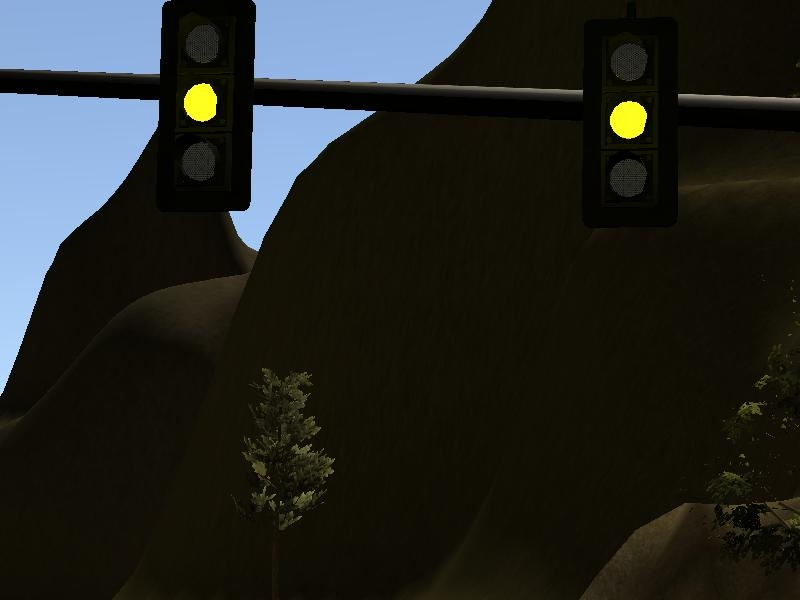yellow: (575, 5, 687, 238), (149, 1, 259, 218)
